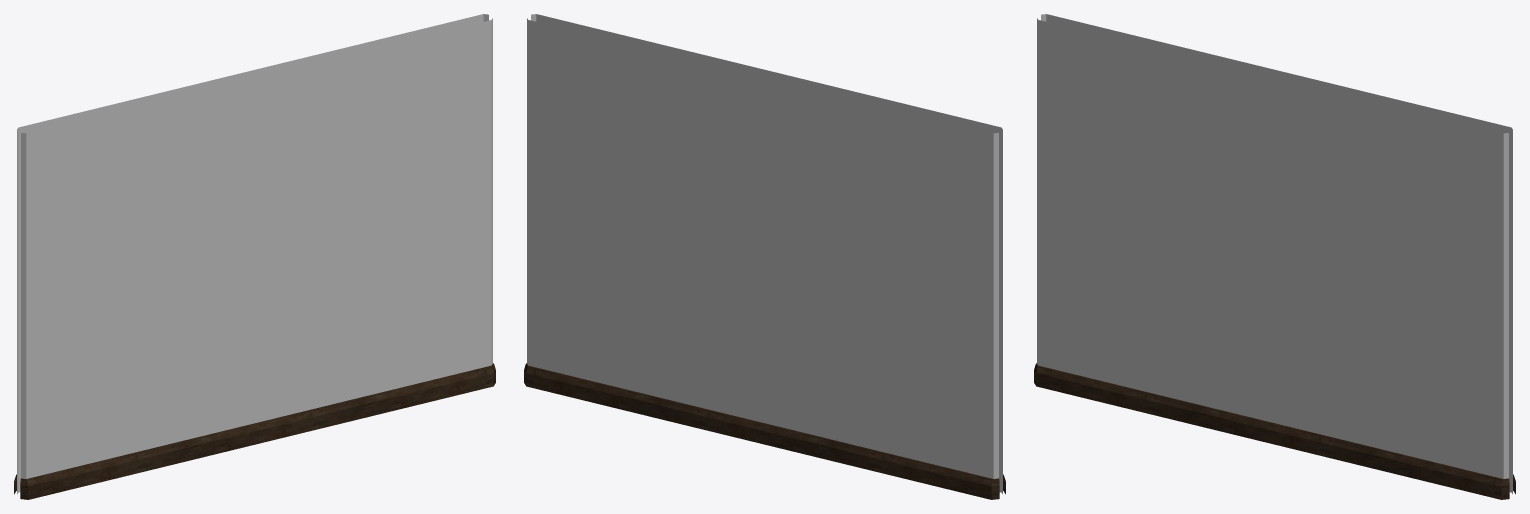
The model's file is wall_1.fbx.
3 views of the same model, side by side, from view 1: azimuth 30°, elevation 25°; view 2: azimuth 150°, elevation 25°; view 3: azimuth 330°, elevation 25° (orthographic).
Visible parts, largest first — view 1: wall_1; view 2: wall_1; view 3: wall_1.
Part boxes in pixels (<box>): wall_1: <box>14,14,495,499</box>; wall_1: <box>524,14,1005,499</box>; wall_1: <box>1034,14,1515,499</box>.
Size of the model in its own units: 4.09 by 3 by 0.18.
